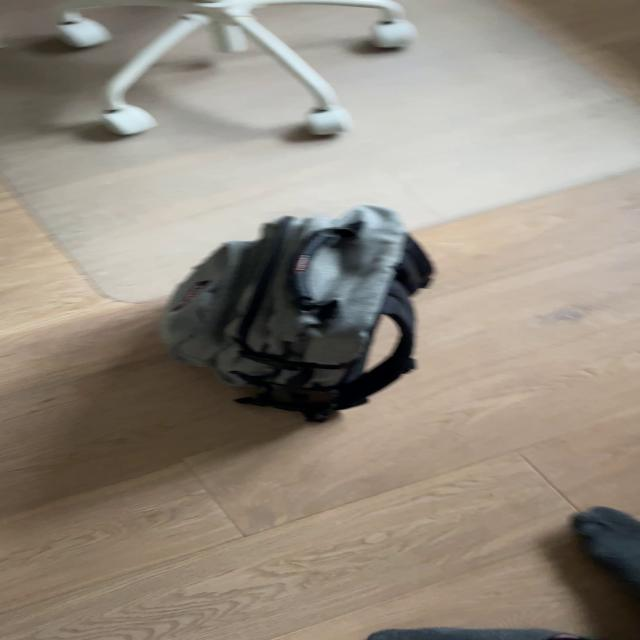backpack: (146, 198, 449, 428)
